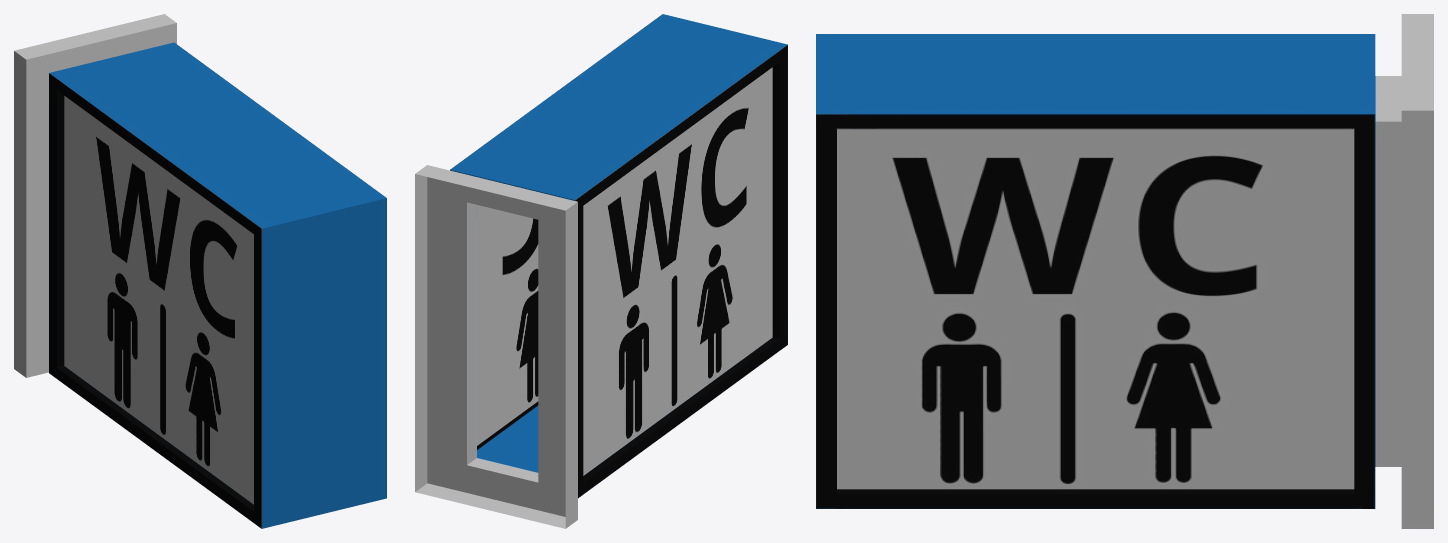
File: restroom_sign.gltf
The picture shows the model from 3 angles, left to right: view 1: azimuth 30°, elevation 25°; view 2: azimuth 150°, elevation 25°; view 3: azimuth 270°, elevation 25°; orthographic projection. The views are drawn at different scales.
Parts seen in each view (by area): view 1: Plane; view 2: Plane; view 3: Plane.
Boxes of the visible parts, box(x1,y1,x2,y2) form: Plane: box(14, 14, 386, 528); Plane: box(415, 14, 787, 528); Plane: box(816, 14, 1433, 528).
Bounding box in the file's own units: 1.64 × 3.3 × 4.42.
1 material, 1 textured.
